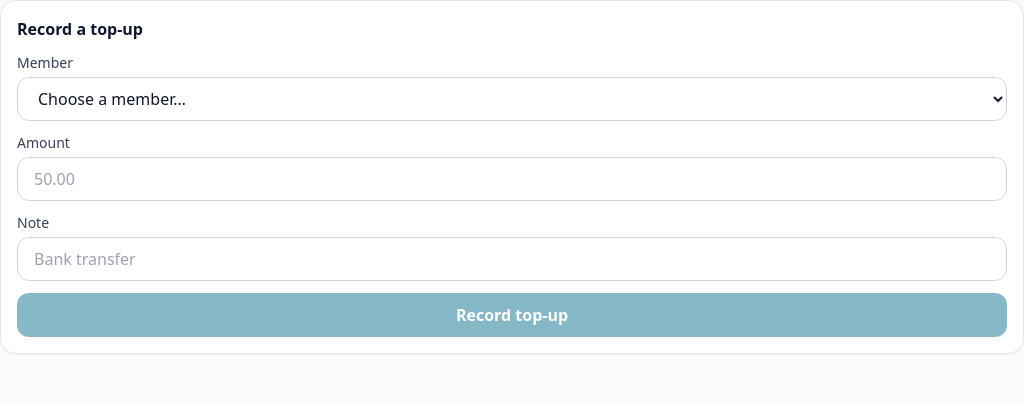
it: TopupForm › reports a failure instead of silently doing nothing
The width and height of the screenshot is (1024, 403).
Select "Karthik" in the dropdown labelled "Member" at (512, 99), box x1=17 y1=77 x2=1007 y2=121
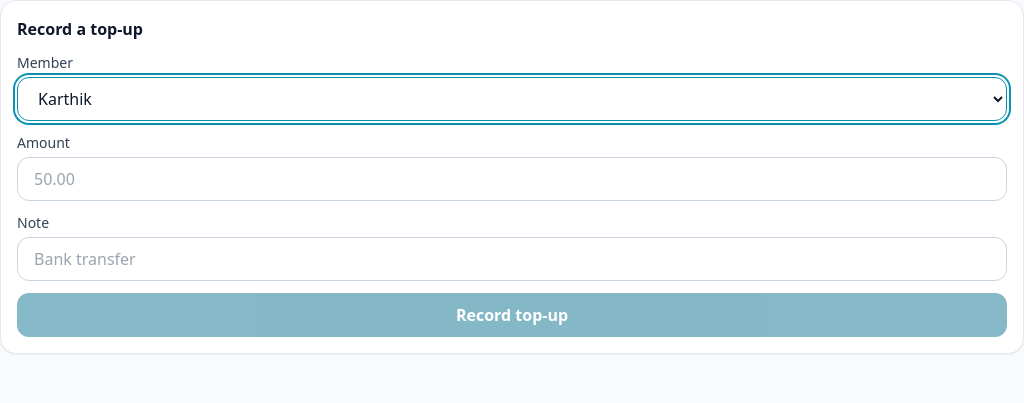
Type "50" into the number field labelled "Amount" at (512, 179), box x1=17 y1=157 x2=1007 y2=201
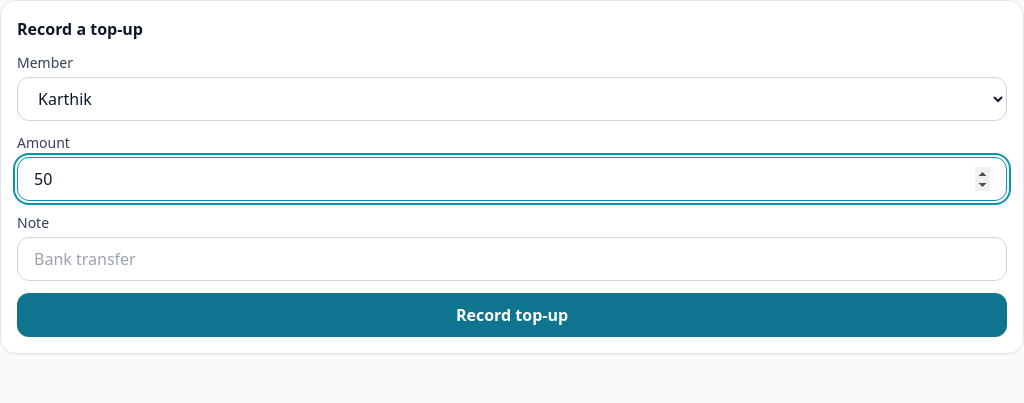
Click the button "Record top-up" at (512, 315), box x1=17 y1=293 x2=1007 y2=337
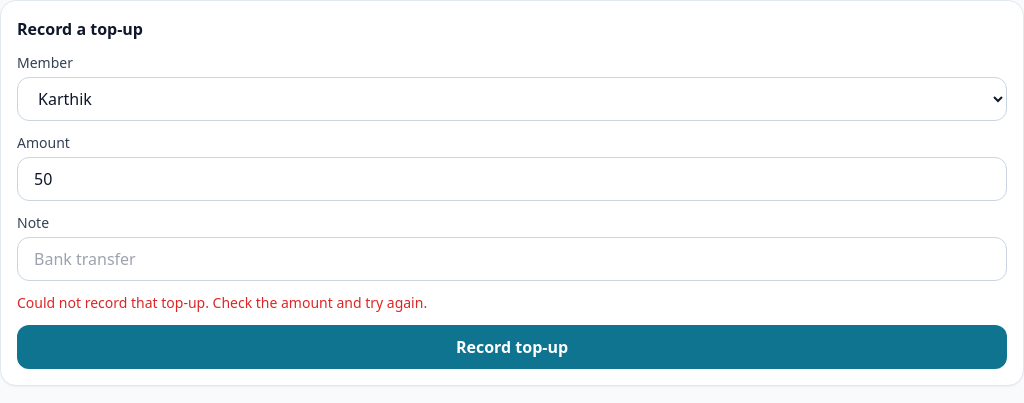
Now the text "Could not record that top-up" is shown, box x1=17 y1=293 x2=427 y2=312
